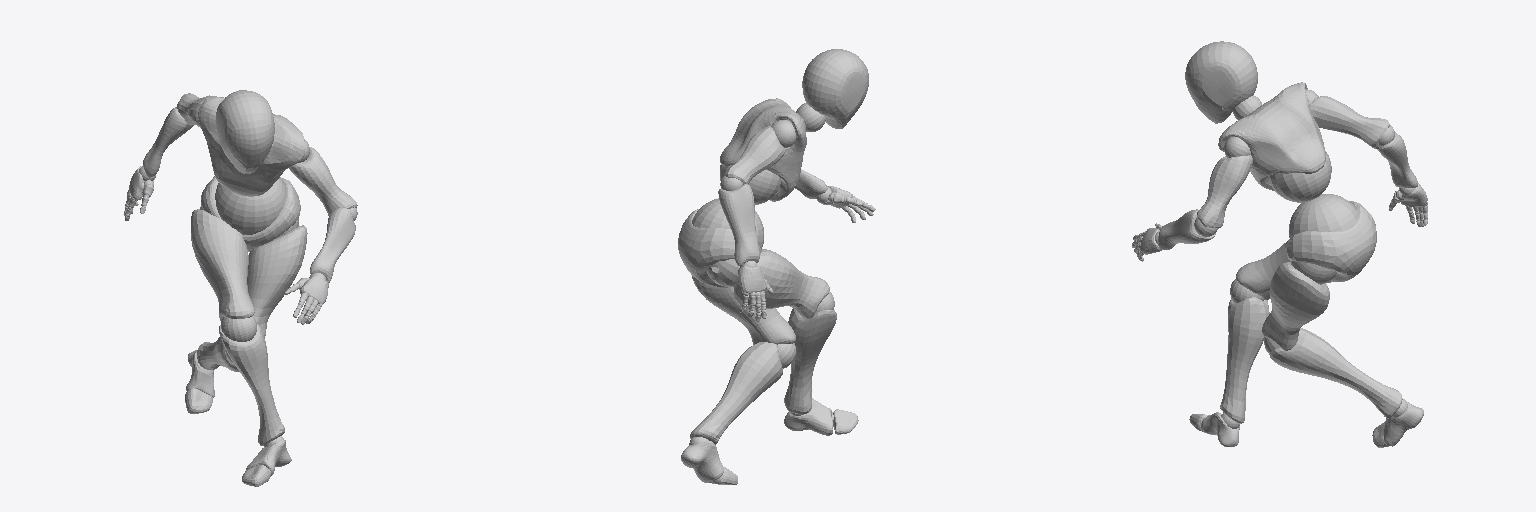
The picture shows the model from 3 angles: view 1: azimuth 30°, elevation 25°; view 2: azimuth 150°, elevation 25°; view 3: azimuth 270°, elevation 25°; orthographic projection.
Parts seen in each view (by area): view 1: Beta_Surface, Beta_Joints; view 2: Beta_Surface, Beta_Joints; view 3: Beta_Surface, Beta_Joints.
Part boxes in pixels (x1,y1,x2,y2): Beta_Surface: (124,90,357,486); Beta_Joints: (124,102,357,476); Beta_Surface: (678,49,875,484); Beta_Joints: (689,103,870,483); Beta_Surface: (1132,41,1427,447); Beta_Joints: (1132,89,1427,432).
Bounding box in the file's own units: 0.4987 × 1.42 × 0.9944.